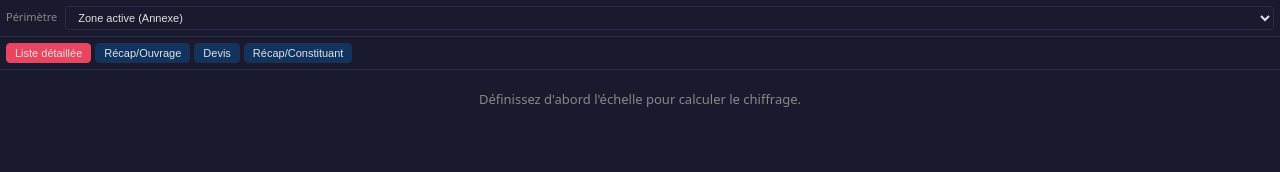
ChiffrageFloat › scope › Should say that no zone of the group has a scale when none has one
This screenshot has width=1280, height=172.
Select "Maison complète" in the dropdown with test id "chiffrage-scope": (670, 18) [65,6,1274,30]
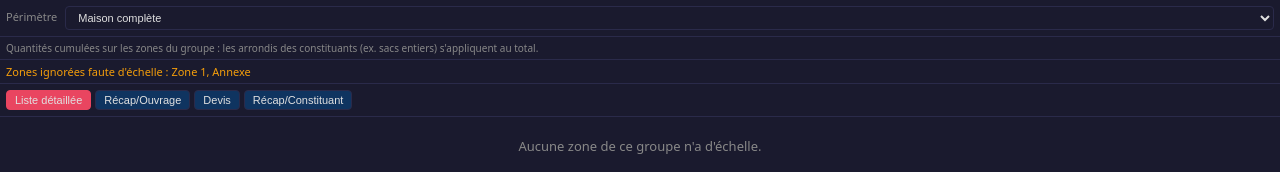
Expected: the text "Aucune zone de ce groupe n'a d'échelle." is shown, [518,137,762,155]
